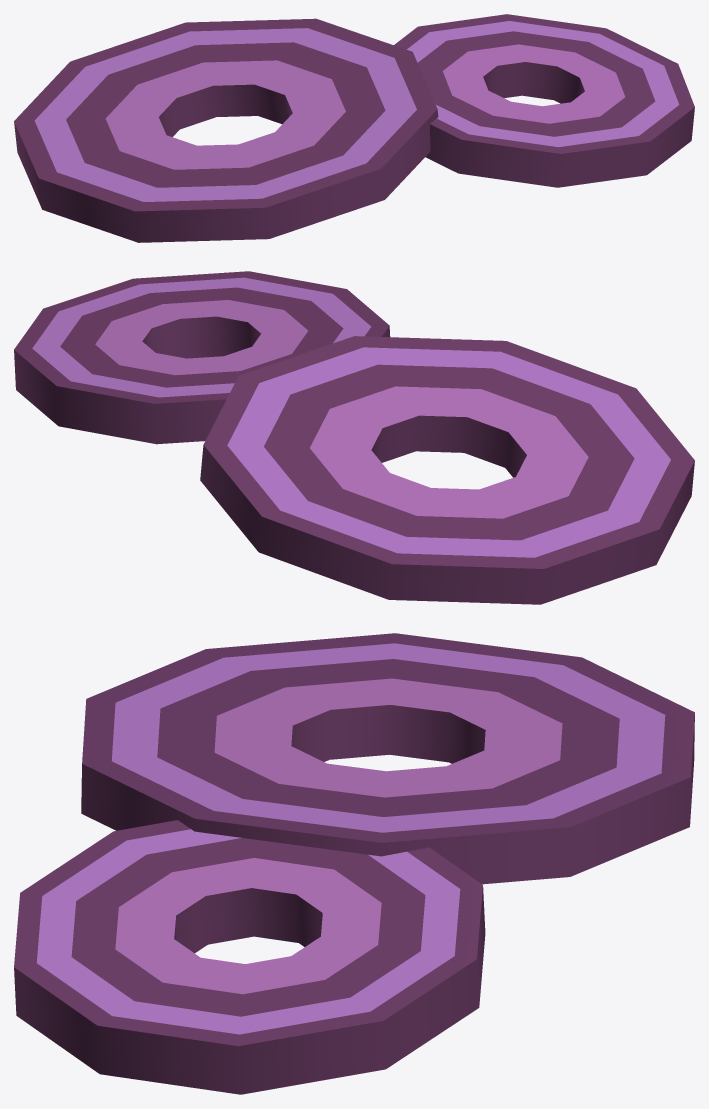
The model's file is SM_Prop_Food_Onion_Sliced.fbx.
3 renders of one model, top to bottom at view 1: azimuth 30°, elevation 25°; view 2: azimuth 150°, elevation 25°; view 3: azimuth 270°, elevation 25°, orthographic. The views are drawn at different scales.
Visible parts, largest first — view 1: Sm_Prop_Food_Union_Sliced; view 2: Sm_Prop_Food_Union_Sliced; view 3: Sm_Prop_Food_Union_Sliced.
Part boxes in pixels (box(x1,y1,x2,y2)): Sm_Prop_Food_Union_Sliced: box(14, 14, 694, 242); Sm_Prop_Food_Union_Sliced: box(14, 271, 694, 604); Sm_Prop_Food_Union_Sliced: box(14, 633, 694, 1094).
Size of the model in its own units: 23.76 by 2.78 by 15.99.
